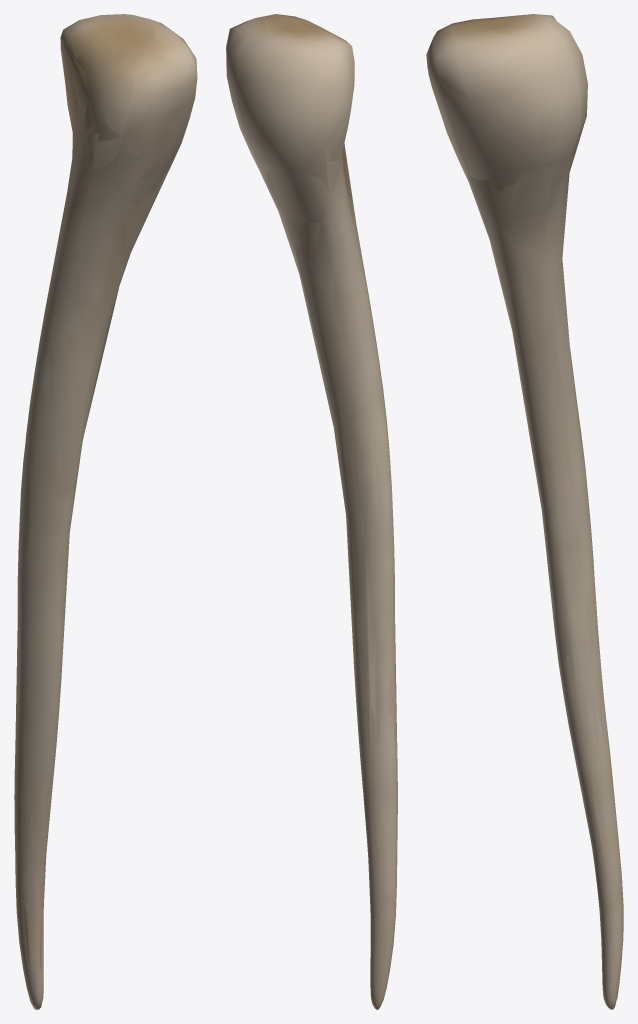
The model's file is R metacarpi secundum.fbx.
3 renders of one model, left to right at view 1: azimuth 30°, elevation 25°; view 2: azimuth 210°, elevation 25°; view 3: azimuth 270°, elevation 25°, orthographic. The views are drawn at different scales.
Parts seen in each view (by area): view 1: R metacarpi secundum, R metacarpi secundum low; view 2: R metacarpi secundum, R metacarpi secundum low; view 3: R metacarpi secundum, R metacarpi secundum low.
Boxes of the visible parts, x1,y1,x2,y2 form: R metacarpi secundum: (14,14,197,1009); R metacarpi secundum low: (15,14,195,970); R metacarpi secundum: (226,14,397,1009); R metacarpi secundum low: (226,18,397,1000); R metacarpi secundum: (426,14,623,1009); R metacarpi secundum low: (426,14,615,968).
Size of the model in its own units: 2.71 by 20.65 by 3.68.
1 material, 1 textured.
